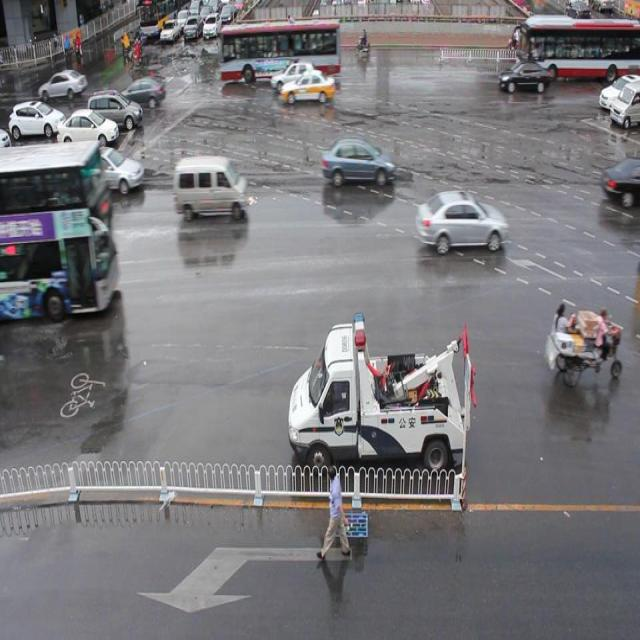car: (415, 188, 508, 253), (320, 135, 395, 189), (69, 144, 144, 191), (599, 157, 640, 209), (280, 70, 336, 104), (496, 60, 550, 95), (270, 62, 321, 94)
truck: (174, 153, 249, 220)
van: (1, 144, 119, 310), (515, 15, 640, 79), (220, 18, 340, 79)
